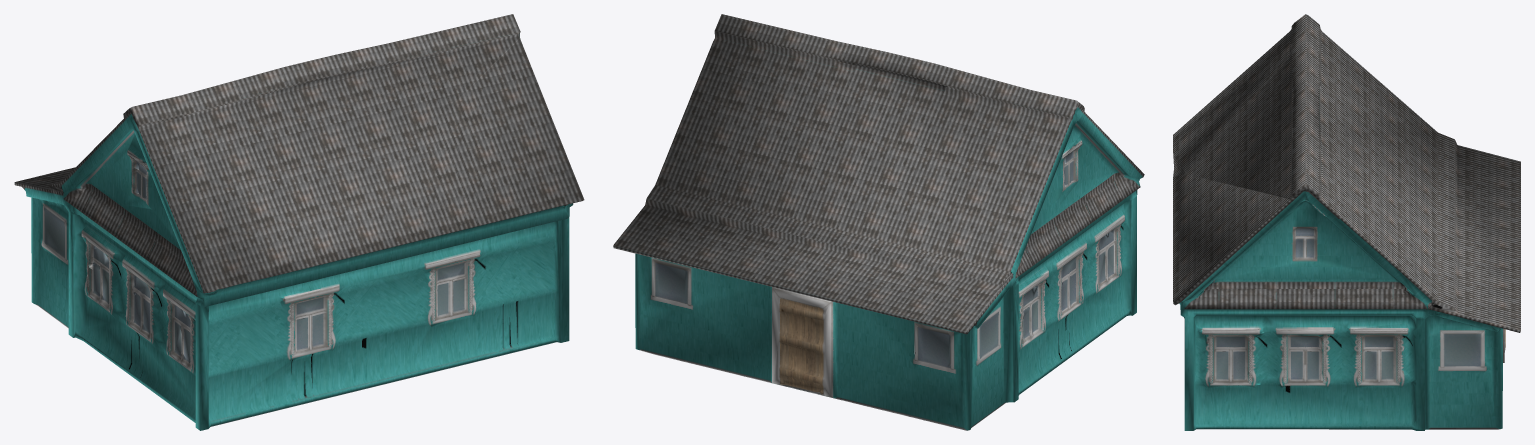
Rendered from old_russian_house_lp2.fbx.
The picture shows the model from 3 angles, left to right: view 1: azimuth 30°, elevation 25°; view 2: azimuth 150°, elevation 25°; view 3: azimuth 270°, elevation 25°; orthographic projection. The views are drawn at different scales.
Visible parts, largest first — view 1: old_russian_house1; view 2: old_russian_house1; view 3: old_russian_house1.
Boxes of the visible parts, x1=… form: old_russian_house1: x1=14, y1=14, x2=584, y2=430; old_russian_house1: x1=613, y1=14, x2=1144, y2=430; old_russian_house1: x1=1173, y1=14, x2=1520, y2=430.
Size of the model in its own units: 826 by 582 by 713.
Materials: 1 (1 with a texture image).
